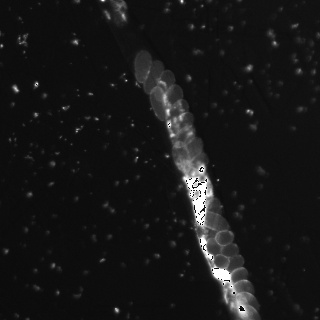embryo: (185, 152, 209, 183), (198, 211, 231, 232), (152, 70, 175, 100), (164, 99, 190, 125), (202, 197, 223, 228), (167, 113, 194, 136), (172, 141, 192, 172), (145, 60, 164, 92), (134, 50, 152, 83), (235, 293, 260, 315), (150, 85, 165, 120), (171, 127, 196, 147), (232, 279, 255, 300), (186, 137, 204, 163), (166, 84, 183, 110), (223, 254, 244, 274), (218, 242, 239, 259), (230, 266, 249, 284), (215, 230, 234, 247), (205, 238, 222, 257), (213, 253, 231, 270)
